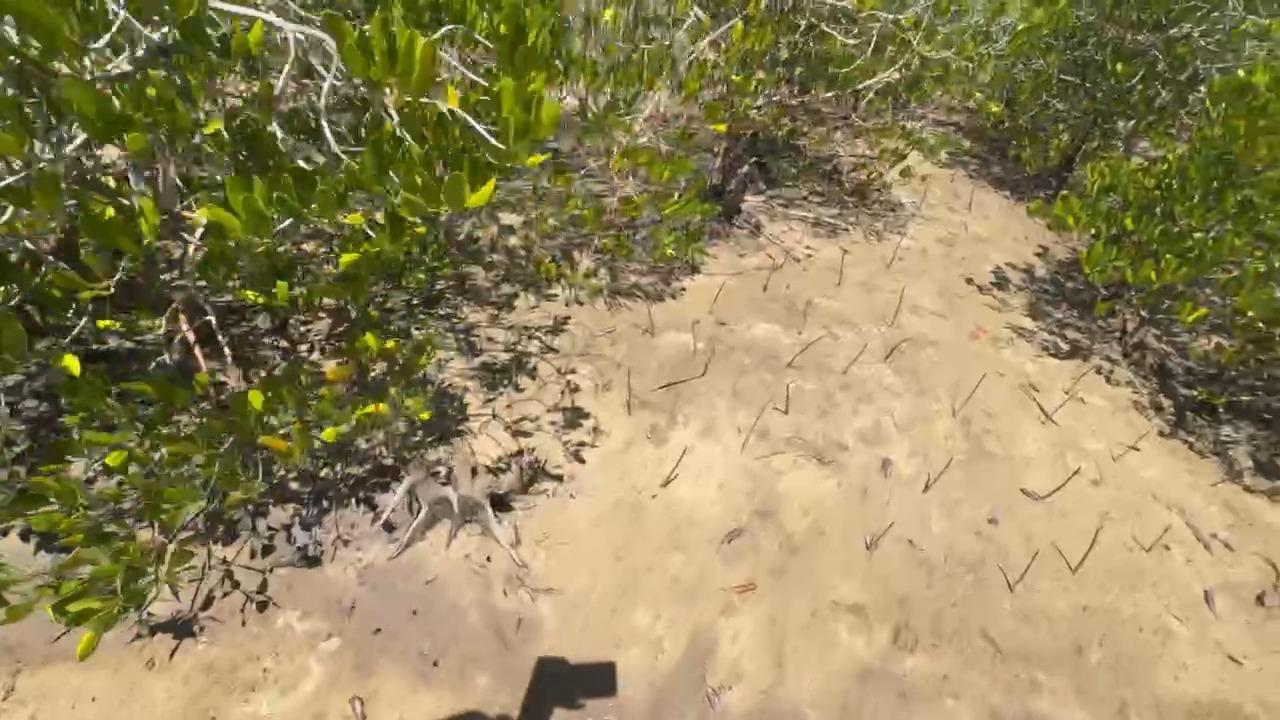Tree: (1041, 465, 1082, 499), (1071, 528, 1100, 575), (786, 335, 825, 367), (1011, 549, 1040, 591), (922, 456, 954, 494), (661, 444, 688, 487), (841, 343, 868, 375), (886, 233, 907, 269), (1145, 524, 1171, 553), (884, 337, 912, 362), (870, 521, 895, 547), (890, 285, 905, 326), (917, 173, 933, 210), (966, 372, 986, 401), (708, 281, 725, 313), (762, 252, 775, 293), (836, 245, 848, 286), (348, 695, 366, 720), (1049, 397, 1070, 418), (1073, 365, 1094, 386), (701, 346, 715, 376), (692, 319, 701, 358), (646, 302, 655, 336), (626, 368, 631, 416), (1133, 431, 1149, 446), (784, 383, 790, 415), (968, 186, 975, 213), (1210, 478, 1227, 487), (950, 169, 958, 183)
